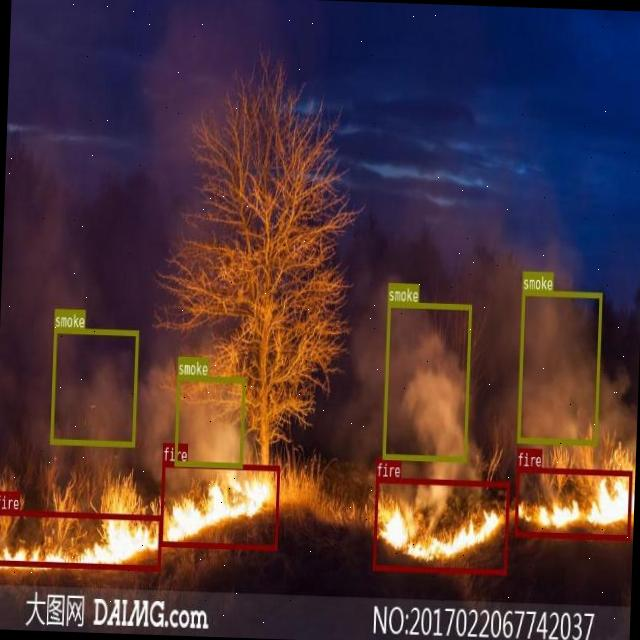fire: (372, 476, 508, 573), (158, 460, 279, 550), (0, 509, 161, 570), (514, 466, 631, 539)
smoke: (382, 300, 471, 461), (516, 290, 601, 445), (49, 326, 138, 444), (174, 375, 245, 467)
